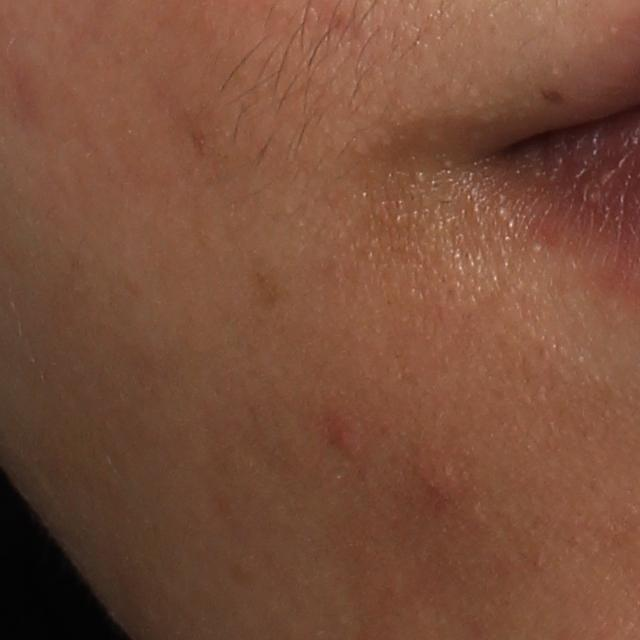nevus: (540, 82, 566, 105)
papule: (417, 453, 467, 505), (327, 418, 364, 461)
